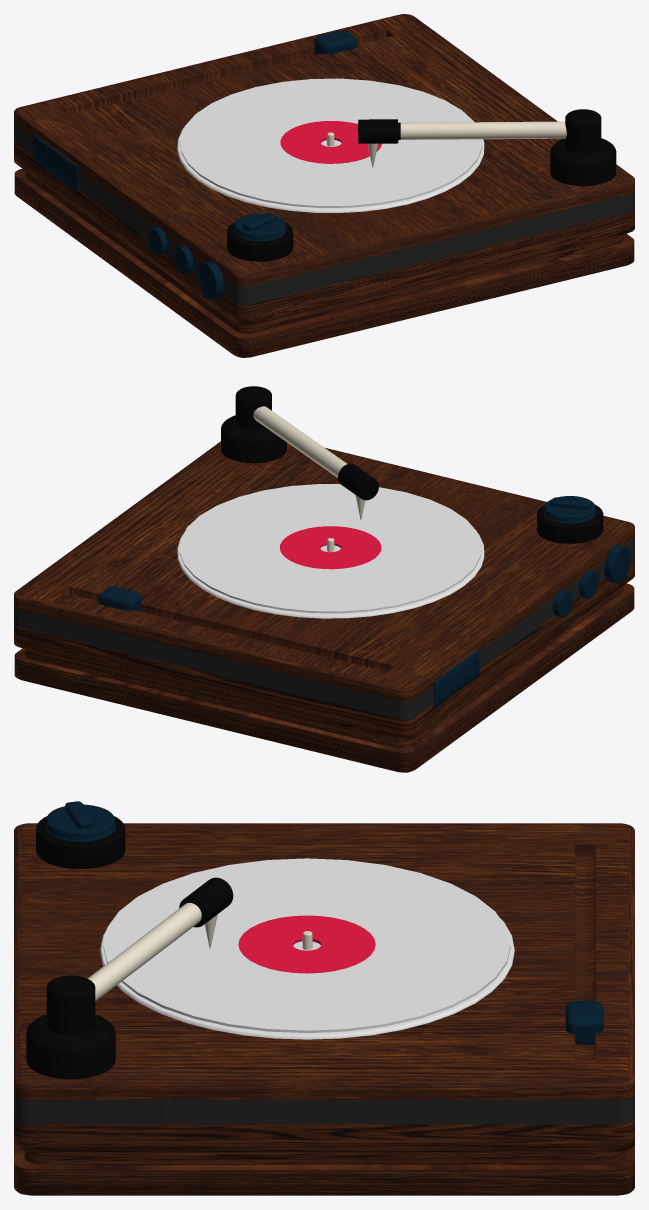
Rendered from RecordPlayer.fbx.
3 views of the same model, one above another, from view 1: azimuth 30°, elevation 25°; view 2: azimuth 150°, elevation 25°; view 3: azimuth 270°, elevation 25° (orthographic). The views are drawn at different scales.
Parts seen in each view (by area): view 1: Cube, Circle, Cube.011, Cylinder.003, Cylinder.002, Cube.007, Cube.009, Cylinder.004, Cylinder, Cube.004, Cube.001, Cylinder.005; view 2: Cube, Circle, Cube.011, Cube.007, Cylinder.002, Cylinder.003, Cube.009, Cylinder.004, Cylinder, Cube.004, Cube.001, Cylinder.005; view 3: Cube, Circle, Cube.011, Cylinder.002, Cylinder.003, Cylinder.004, Cube.007, Cube.009, Cylinder, Cube.001, Cube.002.
Part boxes in pixels (box(x1,y1,x2,y2)): Cube: box(14, 14, 634, 357); Circle: box(180, 78, 482, 207); Cube.011: box(14, 123, 634, 305); Cylinder.003: box(358, 119, 566, 167); Cylinder.002: box(550, 109, 616, 186); Cube.007: box(14, 118, 634, 287); Cube.009: box(14, 141, 634, 309); Cylinder.004: box(227, 213, 293, 261); Cylinder: box(177, 120, 484, 212); Cube.004: box(33, 134, 78, 192); Cube.001: box(314, 30, 357, 54); Cylinder.005: box(198, 261, 224, 300); Cube: box(14, 441, 634, 772); Circle: box(179, 484, 481, 613); Cube.011: box(14, 538, 634, 719); Cube.007: box(14, 532, 634, 701); Cylinder.002: box(221, 386, 286, 463); Cylinder.003: box(253, 406, 378, 519); Cube.009: box(14, 556, 634, 724); Cylinder.004: box(537, 496, 603, 543); Cylinder: box(177, 533, 484, 618); Cube.004: box(433, 649, 479, 706); Cube.001: box(98, 586, 141, 611); Cylinder.005: box(604, 544, 630, 583); Cube: box(14, 823, 634, 1195); Circle: box(103, 858, 510, 1033); Cube.011: box(14, 1094, 634, 1124); Cylinder.002: box(26, 975, 115, 1079); Cylinder.003: box(87, 877, 233, 1001); Cylinder.004: box(36, 804, 125, 868); Cube.007: box(14, 1087, 634, 1099); Cube.009: box(14, 1118, 634, 1130); Cylinder: box(100, 918, 514, 1039); Cube.001: box(565, 1001, 603, 1044); Cube.002: box(65, 801, 94, 828).
Size of the model in its own units: 204 by 68.14 by 200.
7 materials, 1 textured.
